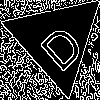D: (31, 15, 87, 74)
